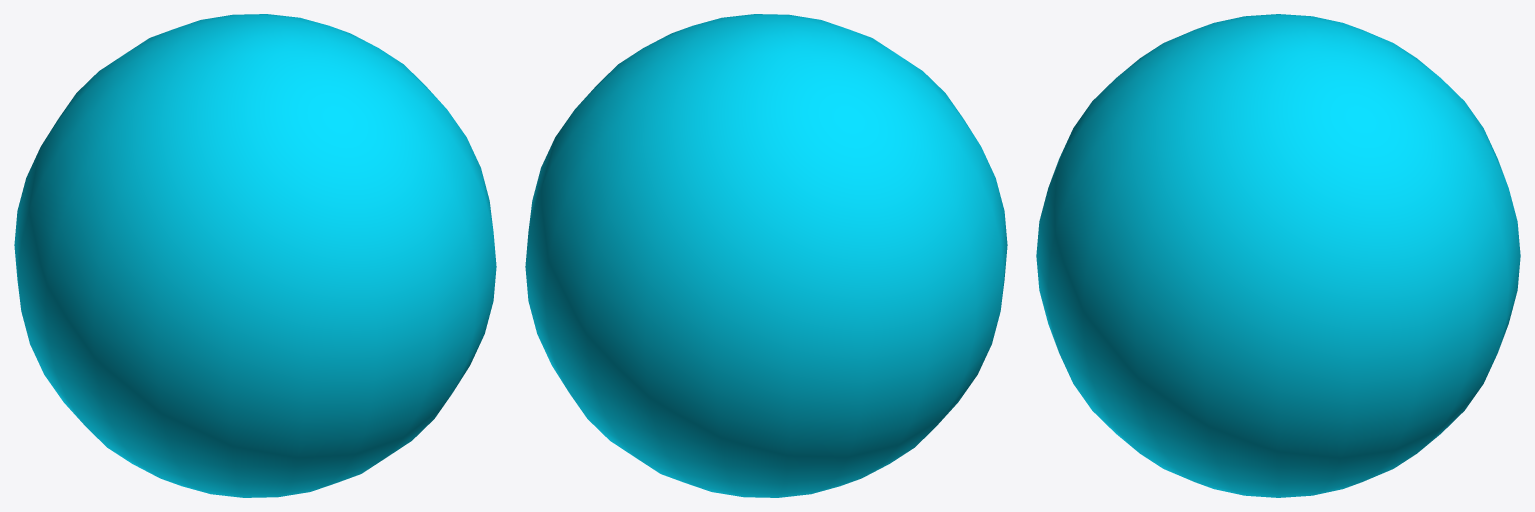
The model's file is Fish_Bubble.fbx.
The picture shows the model from 3 angles, left to right: view 1: azimuth 30°, elevation 25°; view 2: azimuth 150°, elevation 25°; view 3: azimuth 270°, elevation 25°; orthographic projection.
Visible parts, largest first — view 1: pSphere1; view 2: pSphere1; view 3: pSphere1.
Boxes of the visible parts, bbox=[...] form: pSphere1: bbox=[14, 14, 496, 497]; pSphere1: bbox=[525, 14, 1007, 497]; pSphere1: bbox=[1036, 14, 1520, 497].
Bounding box in the file's own units: 42.21 × 42.21 × 42.21.
